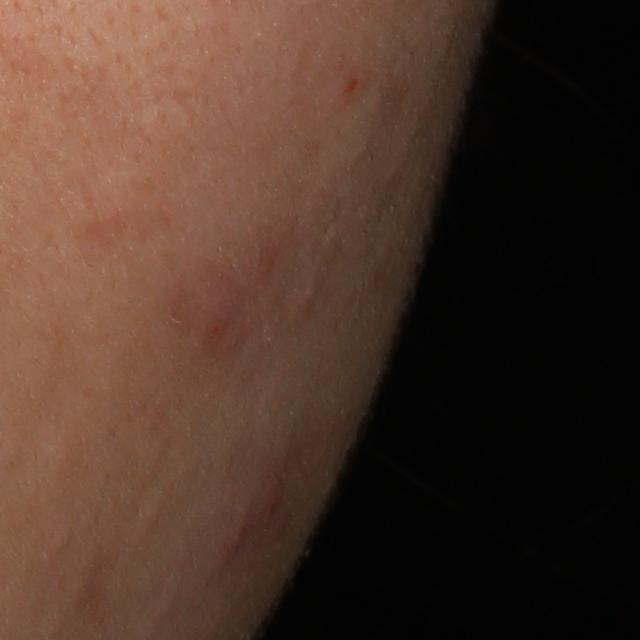comedo: (288, 275, 323, 314)
papule: (190, 290, 233, 350)
